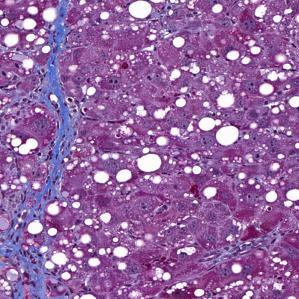fibrosis: (33, 59, 77, 141), (14, 167, 62, 236)
